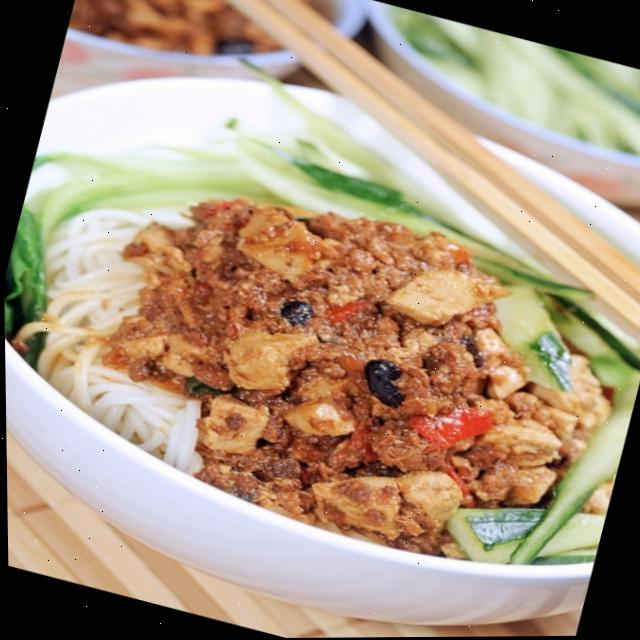面条主食: (0, 29, 640, 637)
